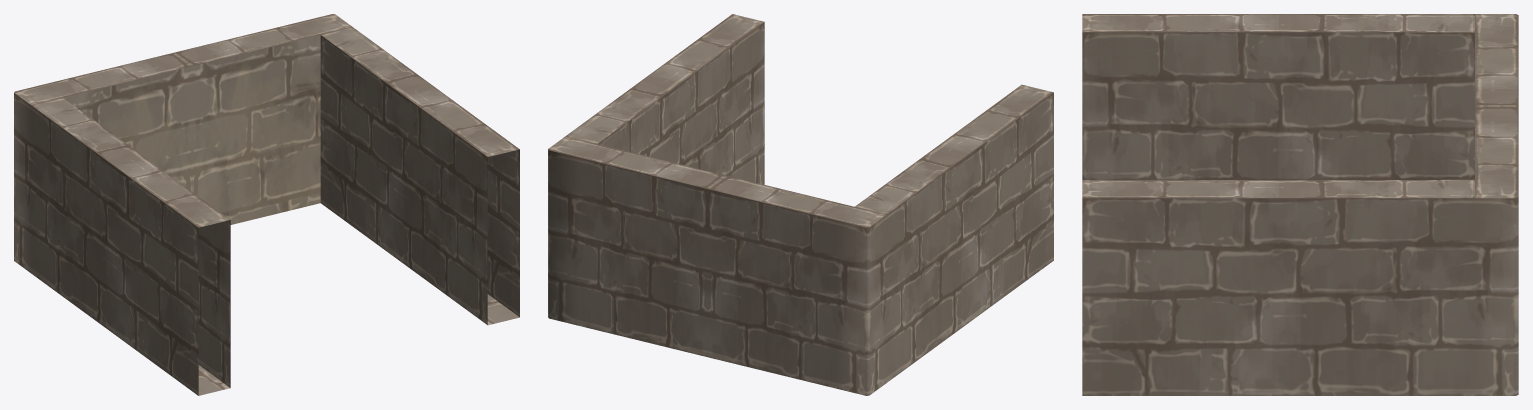
The model's file is Stairs_Exterior_SidesU.gltf.
3 views of the same model, side by side, from view 1: azimuth 30°, elevation 25°; view 2: azimuth 150°, elevation 25°; view 3: azimuth 270°, elevation 25° (orthographic). The views are drawn at different scales.
Parts seen in each view (by area): view 1: Stairs_Exterior_SidesU; view 2: Stairs_Exterior_SidesU; view 3: Stairs_Exterior_SidesU.
Part boxes in pixels (x1,y1,x2,y2): Stairs_Exterior_SidesU: [14, 14, 519, 395]; Stairs_Exterior_SidesU: [548, 14, 1053, 395]; Stairs_Exterior_SidesU: [1082, 14, 1518, 395].
Bounding box in the file's own units: 2 × 1 × 2.
1 material, 1 textured.
